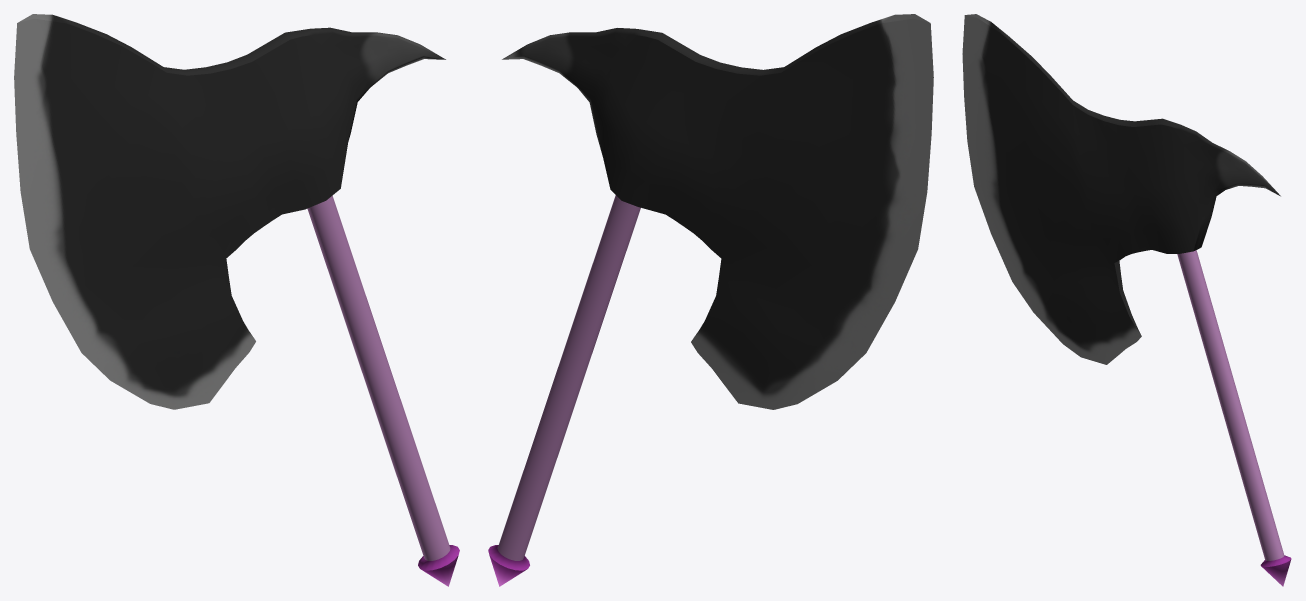
The model's file is Axe01.fbx.
The picture shows the model from 3 angles, left to right: view 1: azimuth 30°, elevation 25°; view 2: azimuth 150°, elevation 25°; view 3: azimuth 330°, elevation 25°; orthographic projection. The views are drawn at different scales.
Parts seen in each view (by area): view 1: axe01_blade, axe01_handle; view 2: axe01_blade, axe01_handle; view 3: axe01_blade, axe01_handle.
Boxes of the visible parts, x1,y1,x2,y2 form: axe01_blade: [14, 14, 445, 409]; axe01_handle: [307, 195, 459, 586]; axe01_blade: [502, 14, 933, 409]; axe01_handle: [488, 195, 640, 586]; axe01_blade: [962, 14, 1280, 364]; axe01_handle: [1177, 250, 1291, 586].
Bounding box in the file's own units: 88.92 × 129 × 7.11.
